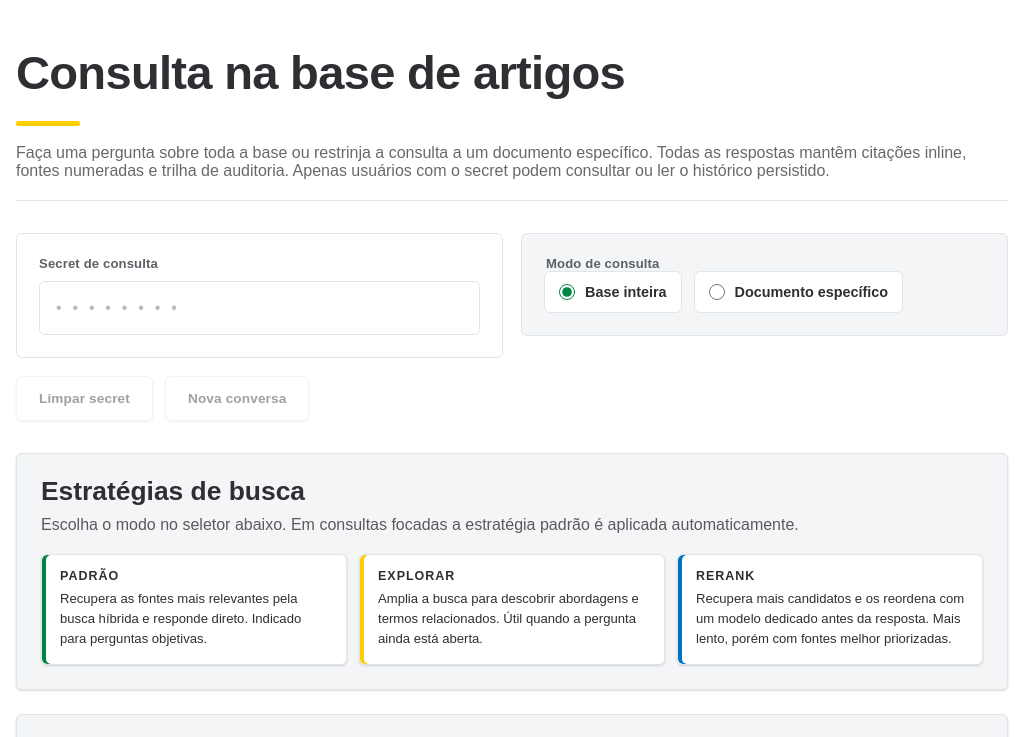
Test: /query page › shows the safe focused not-focusable message and keeps the persisted user turn in the transcript
In the password field labelled "Secret de consulta": (260, 308) [39,281,480,335], type "query-secret-value"
(page scrolled)
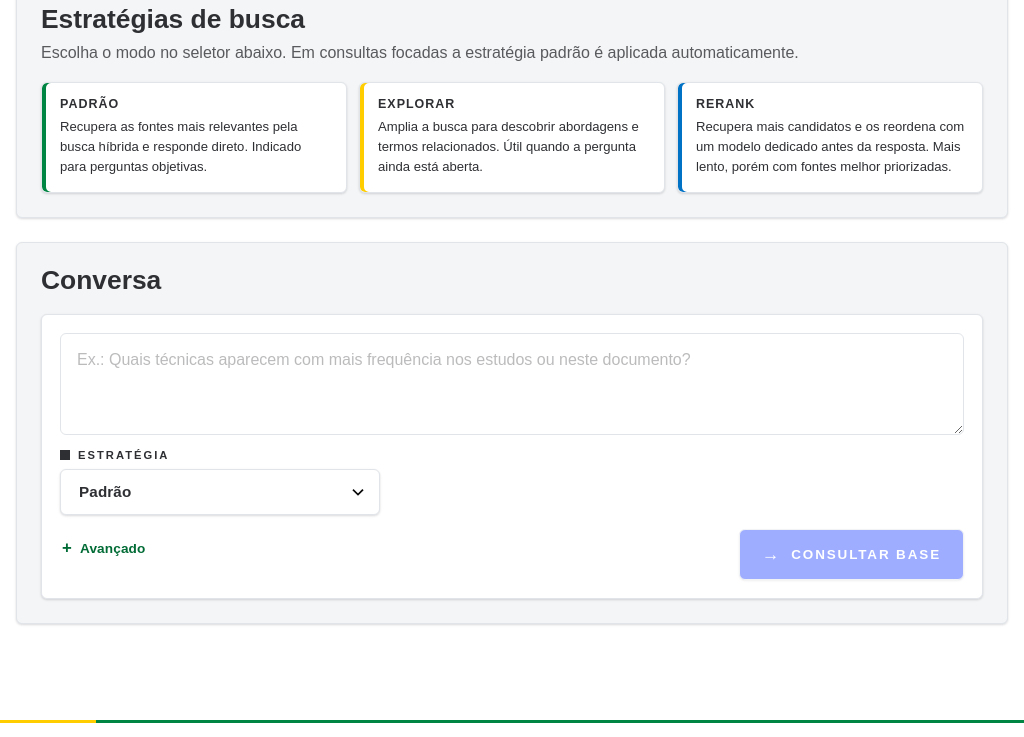
Replace the text in the text box named "pergunta" with "Pergunta focada em documento ainda nao pronto": (512, 384) [60,333,964,435]
(page scrolled)
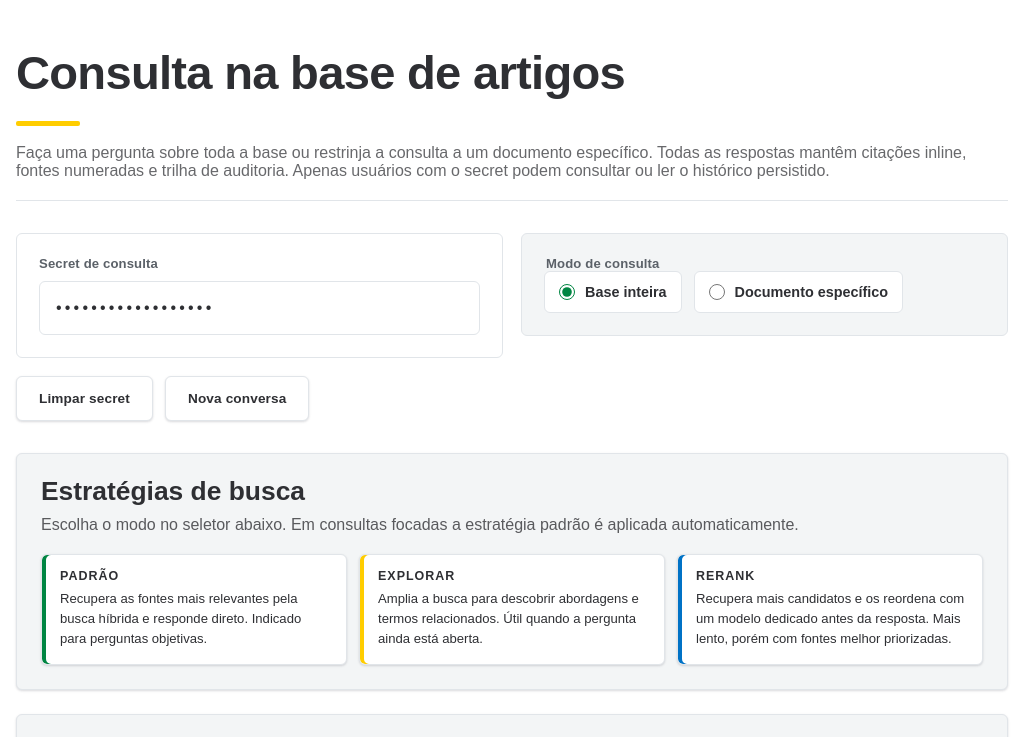
Click the radio button labelled "Documento específico": (717, 292) [709,284,725,300]
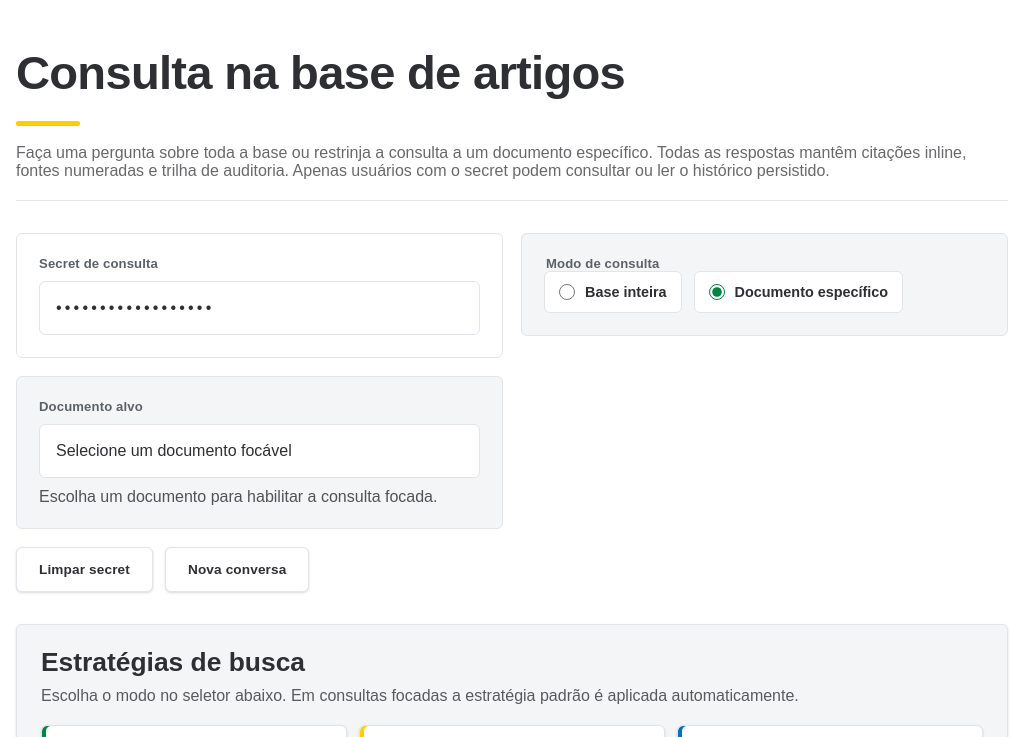
Select "artigo focado a.pdf" in the dropdown labelled "Documento alvo": (260, 451) [39,424,480,478]
(page scrolled)
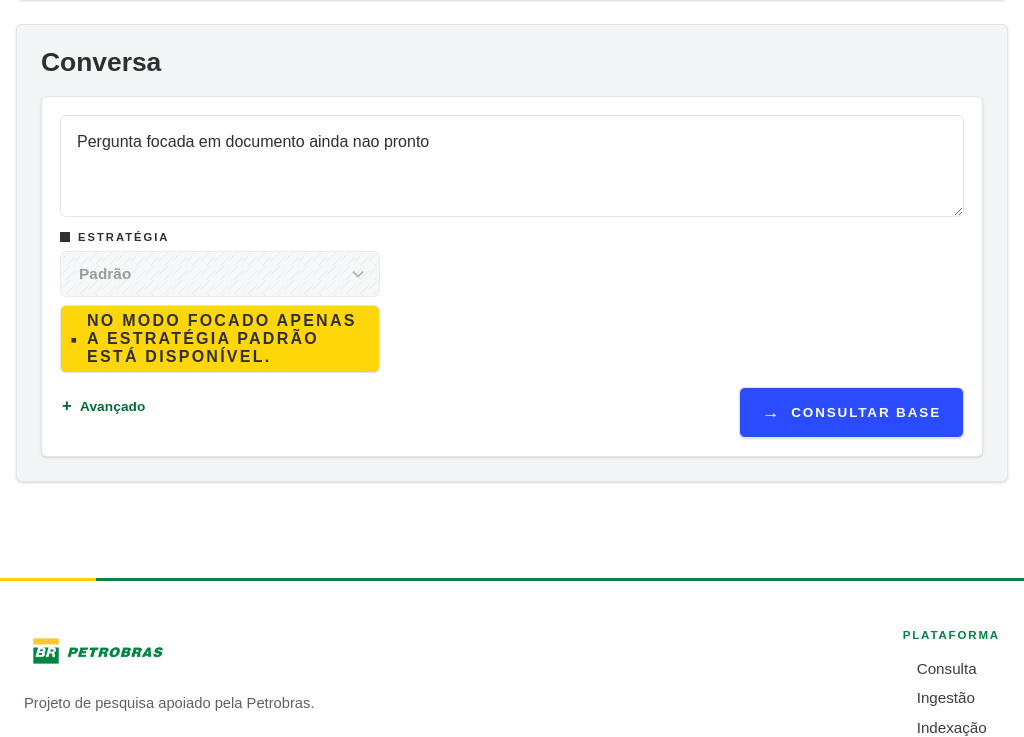
Click the button "Consultar base": (851, 413) [739,387,964,438]
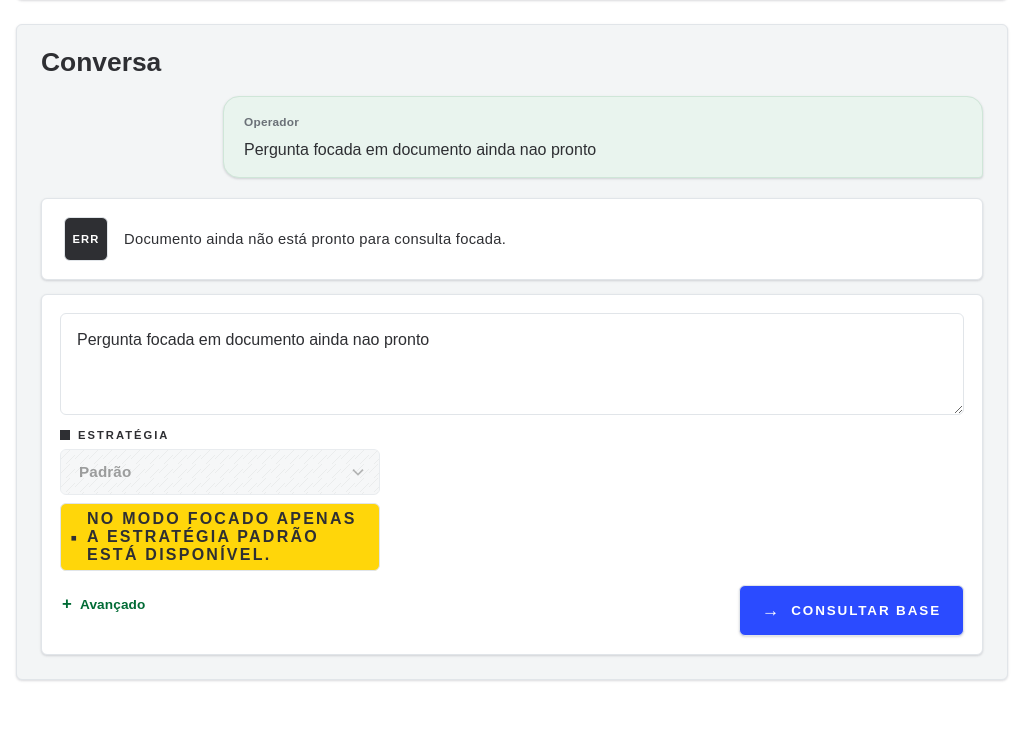
Now the text "Documento ainda não está pronto para consulta focada." is shown, box [124,231,506,247]
Now the text "Pergunta focada em documento ainda nao pronto" is shown, box [244,141,596,158]
